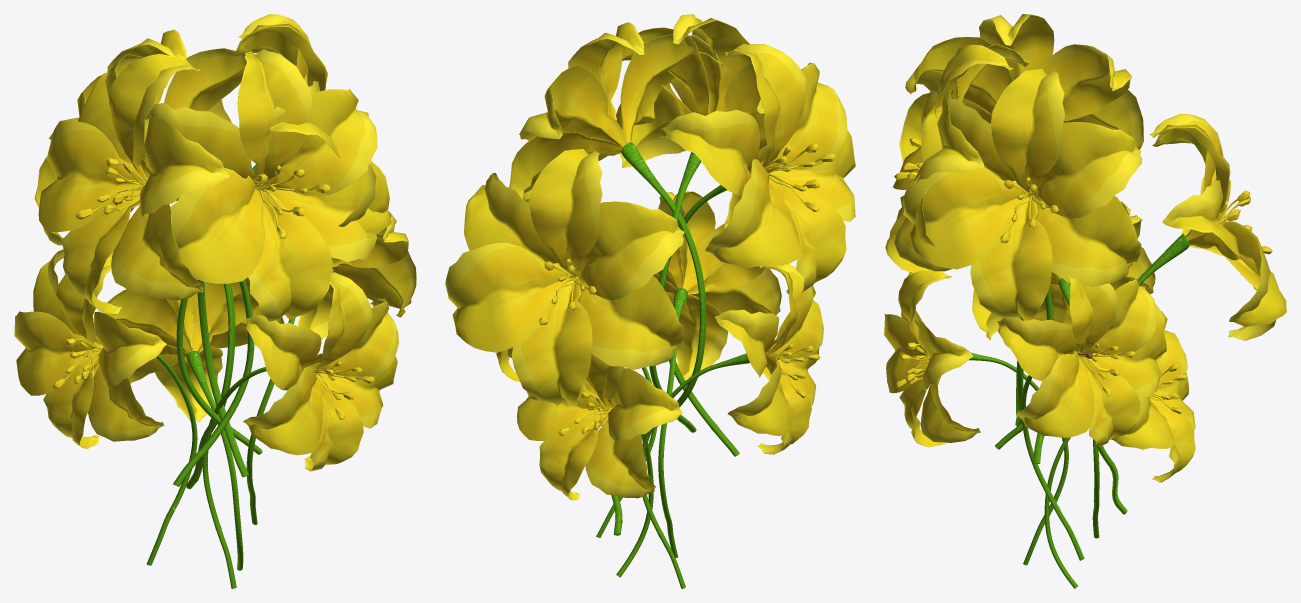
File: RamosLiriosAmarillos01.fbx
3 views of the same model, side by side, from view 1: azimuth 30°, elevation 25°; view 2: azimuth 150°, elevation 25°; view 3: azimuth 270°, elevation 25° (orthographic). The views are drawn at different scales.
Visible parts, largest first — view 1: pPlane163, pPlane168, pPlane142, pPlane164, pPlane166, pPlane144, pPlane145, pPlane165, pPlane143, pPlane149, pPlane170, pPlane147 (+35 smaller); view 2: pPlane156, pPlane159, pPlane157, pPlane158, pPlane161, pPlane142, pPlane146, pPlane131, pPlane143, pPlane160, pPlane147, pPlane145 (+29 smaller); view 3: pPlane128, pPlane131, pPlane129, pPlane130, pPlane133, pPlane135, pPlane146, pPlane139, pPlane145, pPlane138, pPlane140, pPlane132 (+33 smaller).
Boxes of the visible parts, x1=… form: pPlane163: x1=170, y1=168, x2=265, y2=283; pPlane168: x1=248, y1=191, x2=332, y2=321; pPlane142: x1=38, y1=121, x2=146, y2=232; pPlane164: x1=237, y1=49, x2=312, y2=184; pPlane166: x1=254, y1=88, x2=377, y2=196; pPlane144: x1=111, y1=204, x2=203, y2=300; pPlane145: x1=140, y1=116, x2=229, y2=218; pPlane165: x1=264, y1=161, x2=389, y2=261; pPlane143: x1=108, y1=54, x2=201, y2=181; pPlane149: x1=14, y1=311, x2=102, y2=395; pPlane170: x1=243, y1=365, x2=322, y2=455; pPlane147: x1=61, y1=196, x2=140, y2=314; pPlane156: x1=445, y1=243, x2=576, y2=352; pPlane159: x1=578, y1=201, x2=684, y2=300; pPlane157: x1=529, y1=149, x2=602, y2=275; pPlane158: x1=577, y1=276, x2=684, y2=369; pPlane161: x1=511, y1=279, x2=592, y2=406; pPlane142: x1=705, y1=159, x2=801, y2=267; pPlane146: x1=662, y1=110, x2=760, y2=195; pPlane131: x1=519, y1=65, x2=627, y2=147; pPlane143: x1=725, y1=43, x2=806, y2=167; pPlane160: x1=464, y1=172, x2=576, y2=273; pPlane147: x1=768, y1=176, x2=846, y2=293; pPlane145: x1=750, y1=62, x2=847, y2=173; pPlane128: x1=902, y1=167, x2=1029, y2=269; pPlane131: x1=1034, y1=121, x2=1142, y2=218; pPlane129: x1=990, y1=69, x2=1065, y2=192; pPlane130: x1=1034, y1=195, x2=1141, y2=287; pPlane133: x1=970, y1=198, x2=1052, y2=321; pPlane135: x1=1016, y1=350, x2=1094, y2=437; pPlane146: x1=1040, y1=44, x2=1131, y2=120; pPlane139: x1=997, y1=316, x2=1076, y2=380; pPlane145: x1=905, y1=36, x2=1012, y2=114; pPlane138: x1=1075, y1=277, x2=1158, y2=355; pPlane140: x1=1072, y1=354, x2=1140, y2=446; pPlane132: x1=921, y1=91, x2=1015, y2=181.
Size of the model in its own units: 0.1311 by 0.1413 by 0.2022.
Materials: 3 (3 with a texture image).
